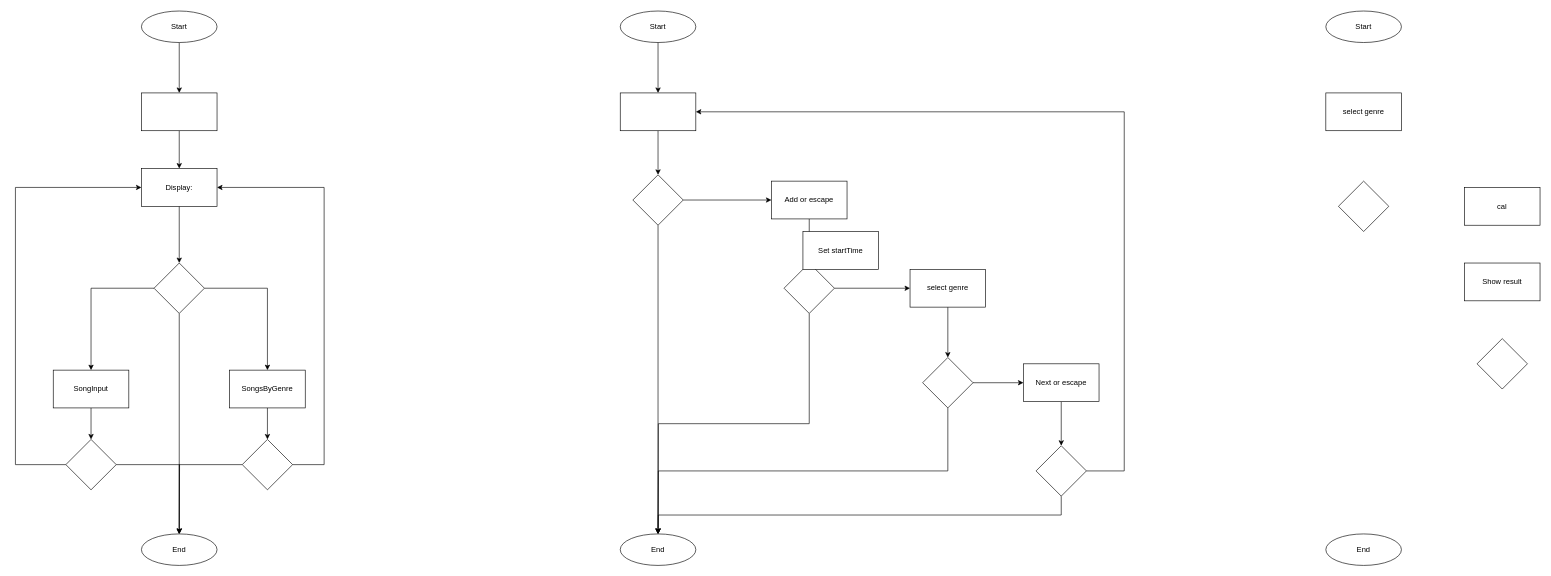
Some shapes in this 1551 by 576 pixel diagram are drawn without their labels. The shapes that lost their labels are listed below. From the top down, each one's centre as x and y in pixels, then its label:
(179,111): Declare
(658,111): Genre is empty
